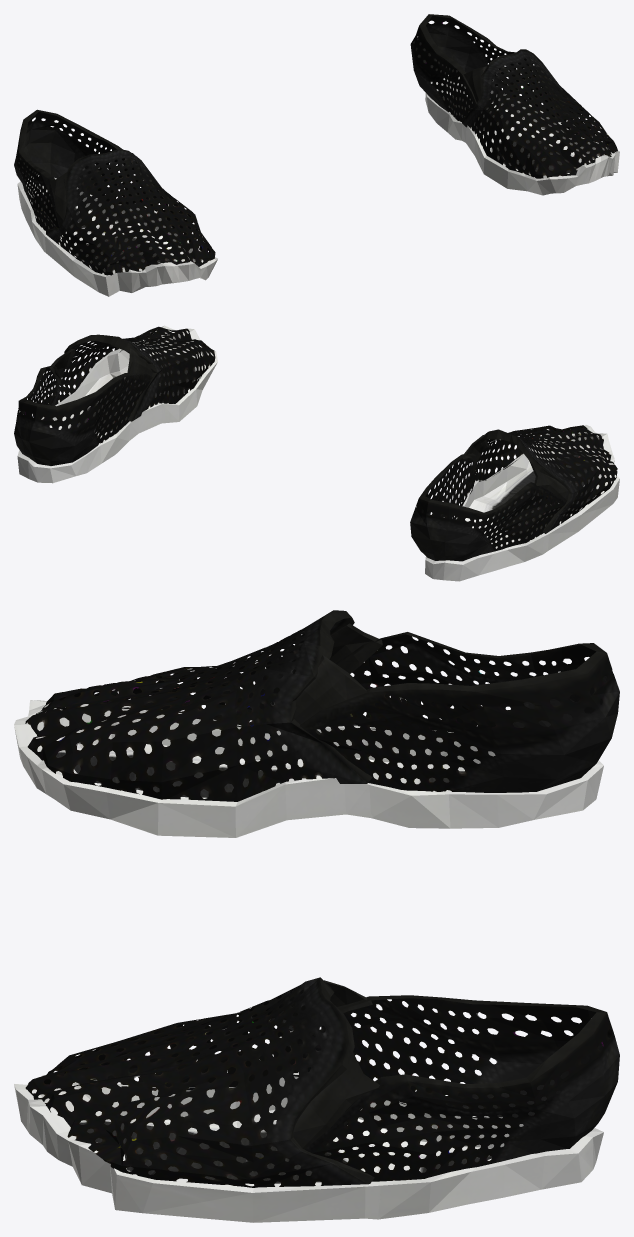
The model's file is mhw_punkduck_comfortable_sneakers.glb.
3 views of the same model, one above another, from view 1: azimuth 30°, elevation 25°; view 2: azimuth 150°, elevation 25°; view 3: azimuth 270°, elevation 25° (orthographic). The views are drawn at different scales.
Parts seen in each view (by area): view 1: mhw_punkduck_comfortable_sneakers; view 2: mhw_punkduck_comfortable_sneakers; view 3: mhw_punkduck_comfortable_sneakers.
Boxes of the visible parts, x1=… form: mhw_punkduck_comfortable_sneakers: x1=14, y1=14, x2=619, y2=296; mhw_punkduck_comfortable_sneakers: x1=14, y1=325, x2=619, y2=581; mhw_punkduck_comfortable_sneakers: x1=14, y1=610, x2=619, y2=1222.
Size of the model in its own units: 0.5461 by 0.1002 by 0.2933.
Materials: 1 (1 with a texture image).
